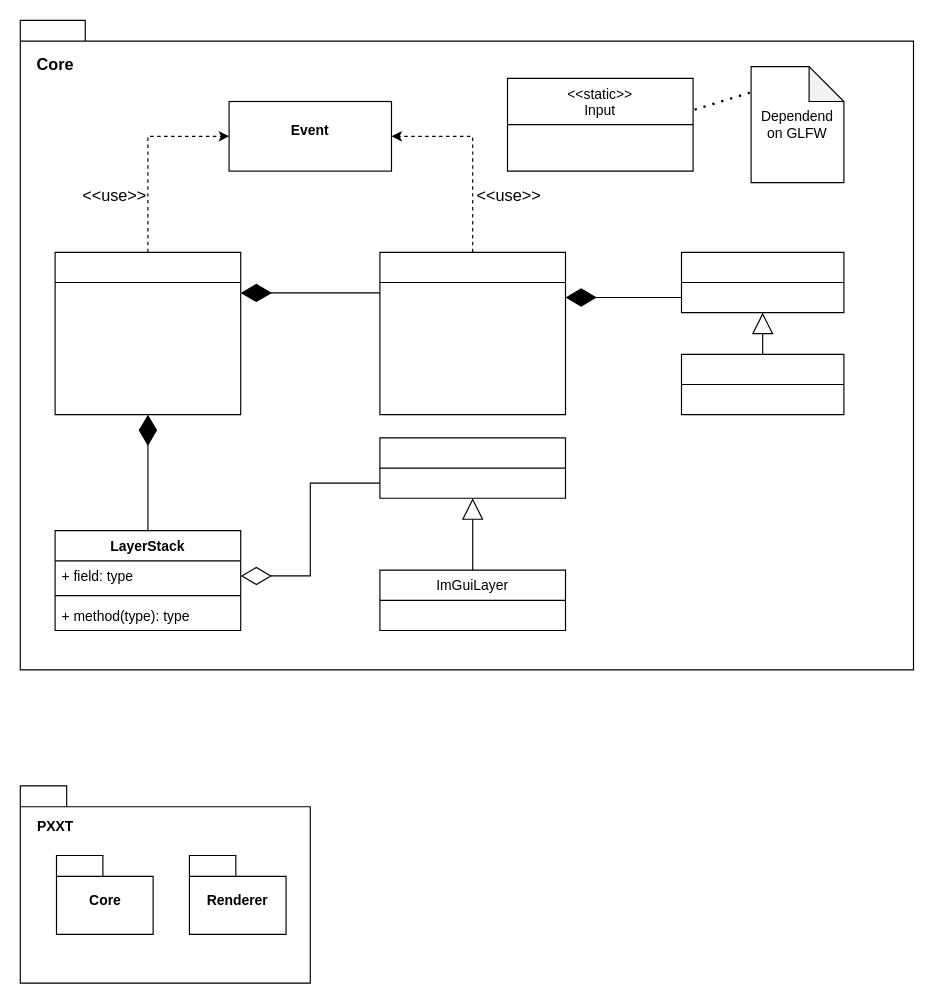
Image size: 934x1003. Some labels were removed from this diagram. The shapes that lost their labels are listed below. From the top down, each one's centre as x and y in pixels, then its label:
At pixel 762 282: "WindowContext".
At pixel 147 333: "Application".
At pixel 472 333: "GLFWWindow".
At pixel 762 384: "OpenGLContext".
At pixel 472 467: "Layer".
